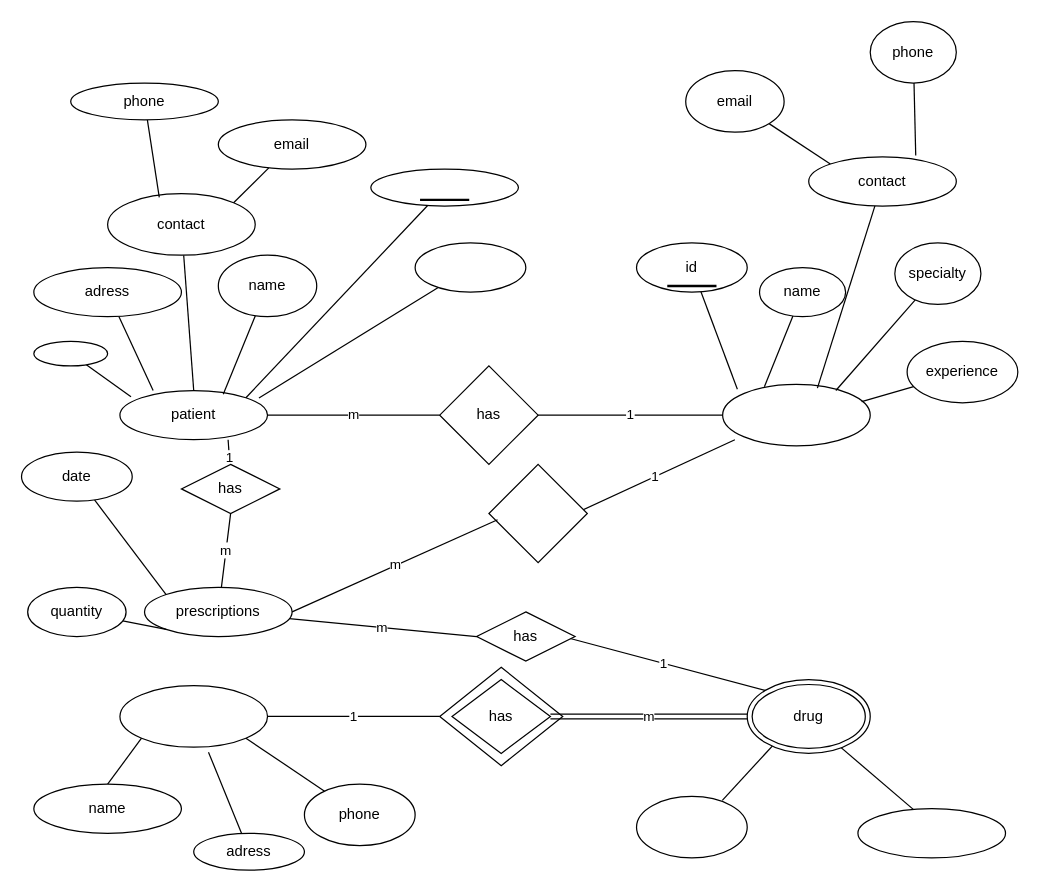
The diagram is 1039 pixels wide and 892 high, and some of its shapes have lost their labels. The centre of each missing label's shape, as x and y in pixels:
age: (x=70, y=353)
describr: (x=537, y=513)
doctors: (x=795, y=414)
drug_strength: (x=931, y=832)
medicine card number: (x=470, y=267)
pharm Company: (x=193, y=715)
trade: (x=691, y=826)
UR: (x=444, y=187)
